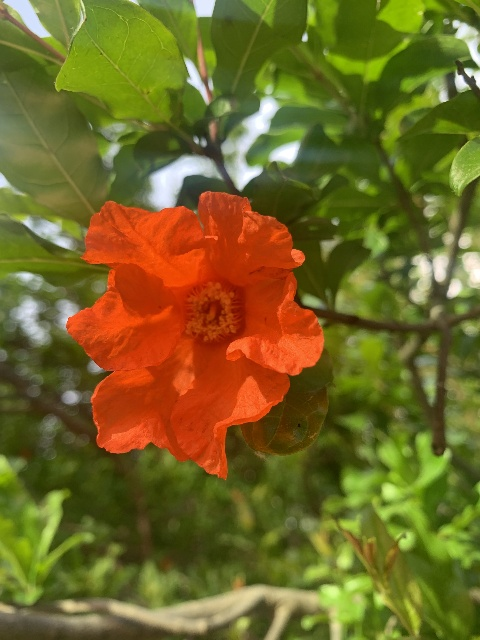flower: (69, 187, 323, 480)
